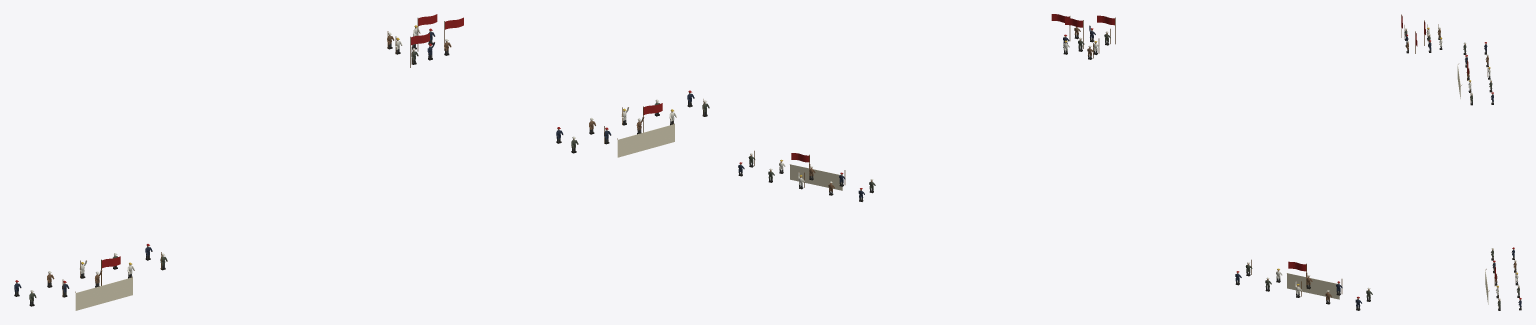
File: KyotoRoof1969.glb
The picture shows the model from 3 angles, left to right: view 1: azimuth 30°, elevation 25°; view 2: azimuth 150°, elevation 25°; view 3: azimuth 270°, elevation 25°; orthographic projection. The views are drawn at different scales.
Parts seen in each view (by area): view 1: paper@roof-west, paper@roof-east, red@tower; view 2: paper@roof-east, paper@roof-west; view 3: wood@tower.
Boxes of the visible parts, box(x1,y1,x2,y2) form: paper@roof-west: box(75, 277, 132, 310); paper@roof-east: box(617, 124, 674, 157); red@tower: box(411, 14, 463, 45); paper@roof-east: box(790, 164, 842, 190); paper@roof-west: box(1287, 273, 1339, 299); wood@tower: box(1401, 14, 1438, 53).
Size of the model in its own units: 82.96 by 26.01 by 16.13.
Materials: 32 (32 with a texture image).
